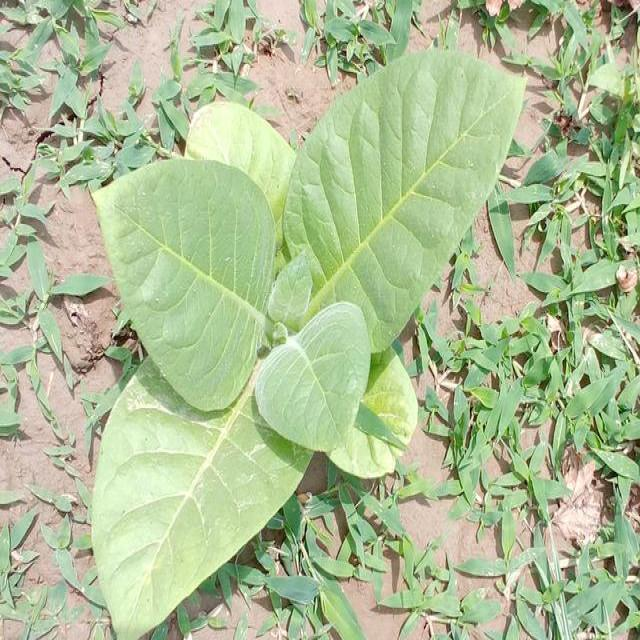crop: (86, 66, 520, 633)
